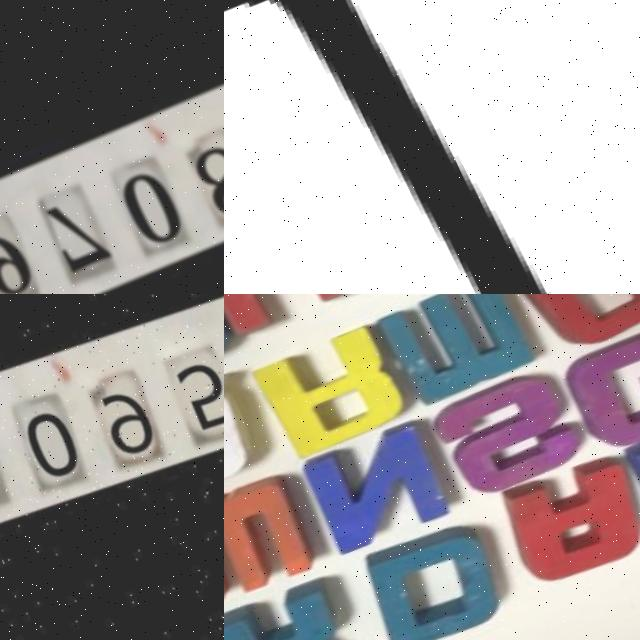0: (0, 375, 106, 506), (105, 153, 193, 258)
2: (0, 395, 29, 530)
5: (142, 325, 224, 455)
7: (28, 178, 118, 286)
8: (178, 123, 224, 229)
9: (65, 352, 182, 483), (0, 213, 41, 294)
A: (489, 431, 640, 593)
B: (620, 394, 640, 534)
D: (343, 500, 524, 640)
G: (553, 299, 640, 455)
K: (224, 563, 368, 640)
M: (369, 294, 546, 414)
N: (291, 406, 461, 561)
O: (504, 294, 640, 359)
Q: (224, 355, 274, 521)
R: (249, 308, 414, 462)
S: (431, 350, 594, 502)
T: (224, 0, 640, 294)
U: (224, 294, 354, 342)
W: (224, 455, 326, 620)
